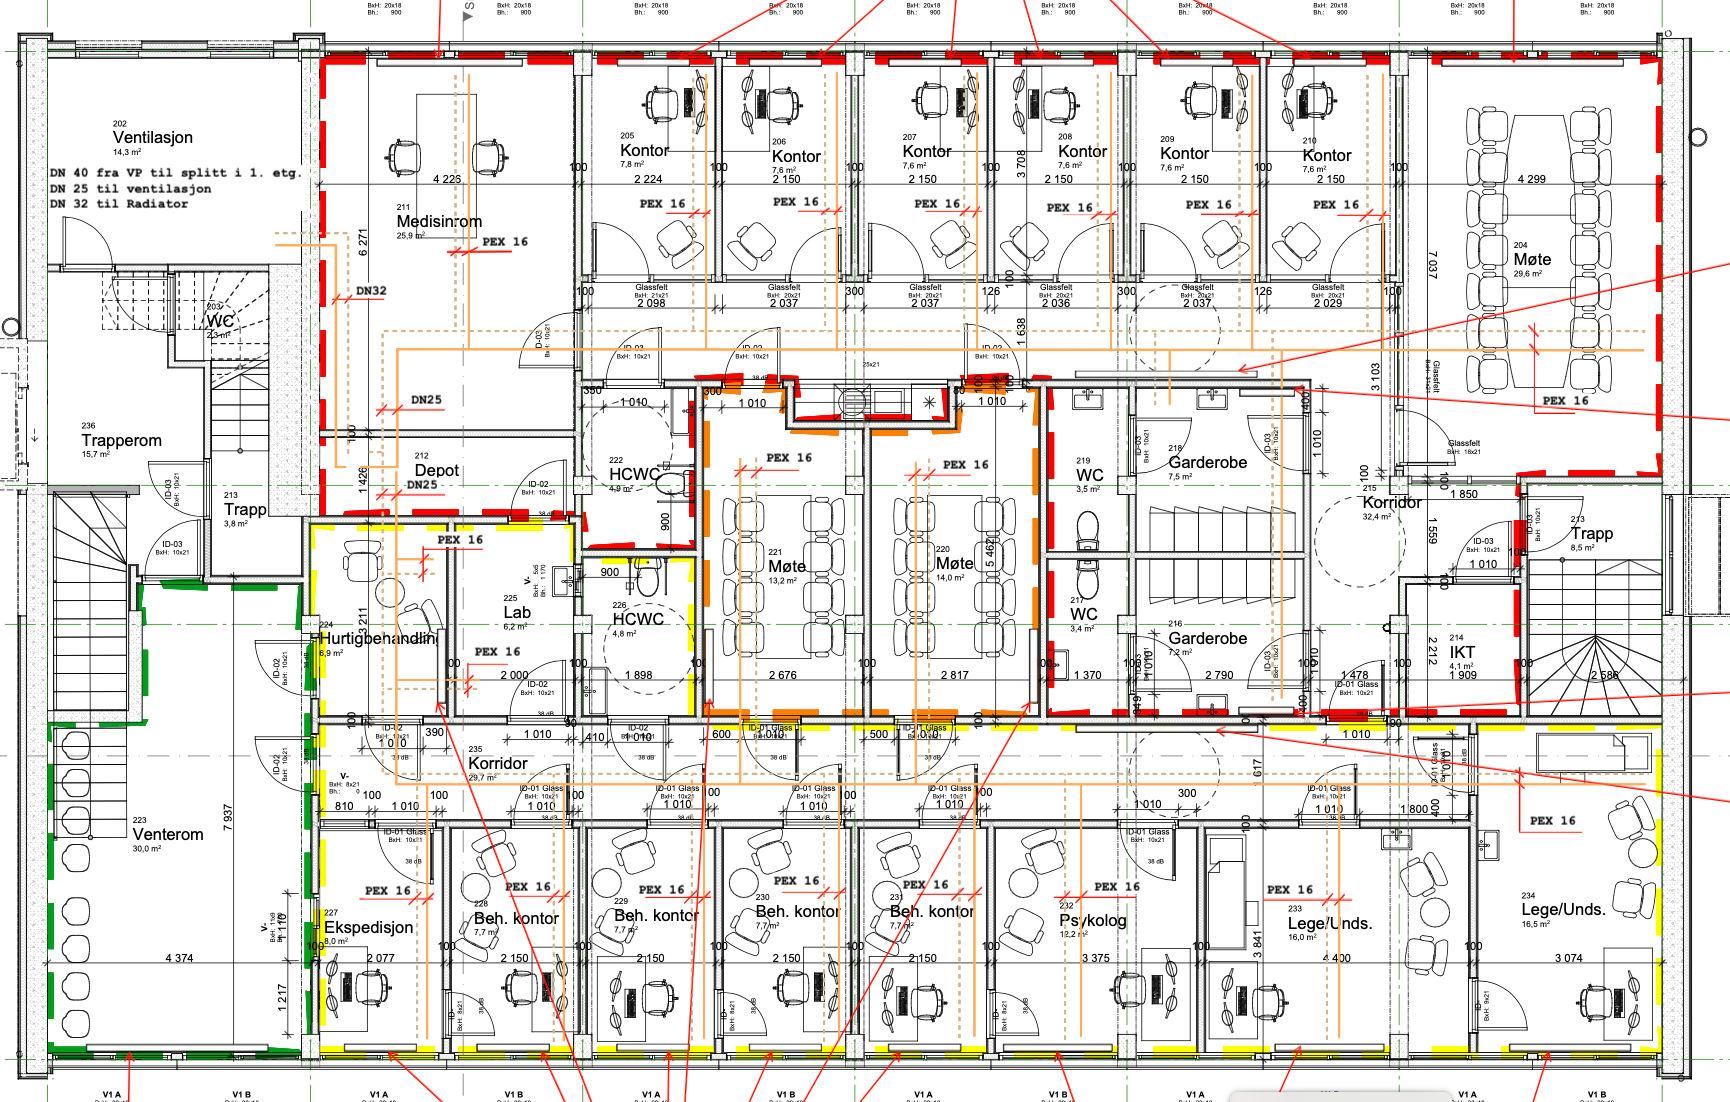room: (1400, 57, 1671, 480), (311, 50, 578, 432), (1474, 720, 1666, 1054), (1200, 822, 1473, 1053), (866, 381, 1042, 720), (37, 49, 311, 264), (699, 383, 865, 721), (991, 822, 1200, 1053), (575, 50, 717, 277), (583, 823, 720, 1058), (448, 823, 583, 1058), (719, 823, 852, 1057), (856, 52, 992, 280), (992, 50, 1129, 279), (1127, 50, 1263, 279), (856, 822, 990, 1054), (720, 52, 856, 279), (1262, 52, 1398, 279), (1132, 383, 1308, 556), (315, 822, 446, 1053), (306, 519, 450, 720), (1132, 556, 1306, 712), (451, 521, 579, 720), (579, 382, 699, 554), (578, 552, 700, 720), (1402, 581, 1524, 717), (1043, 383, 1132, 556), (1043, 555, 1132, 715)
